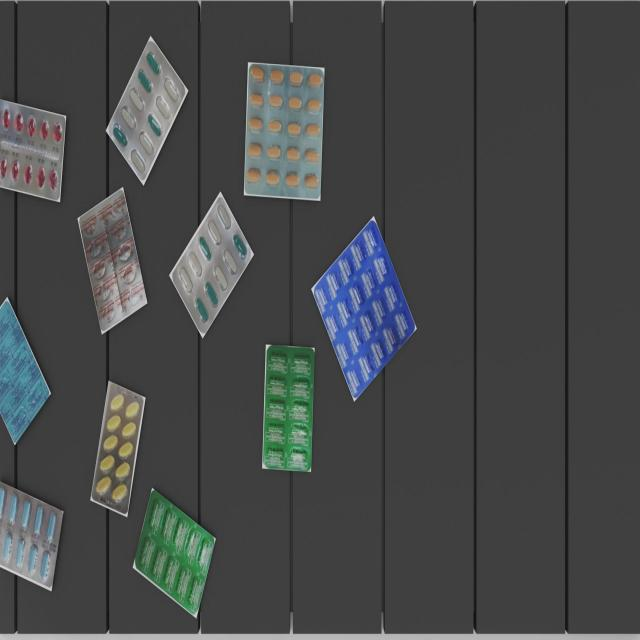blister: (315, 220, 415, 398), (172, 194, 250, 335), (108, 39, 186, 178), (245, 64, 324, 198), (79, 189, 147, 333), (136, 489, 214, 614), (0, 300, 50, 450), (91, 380, 144, 514), (0, 482, 63, 591), (0, 97, 66, 200), (263, 343, 314, 469)
